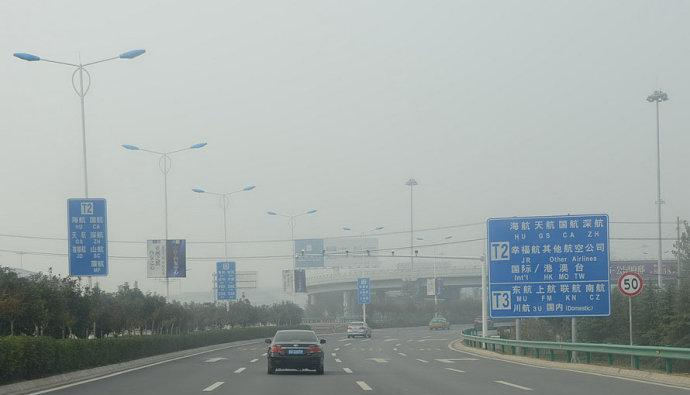car: (263, 328, 328, 376), (347, 322, 372, 340), (473, 315, 496, 329), (428, 317, 450, 331)
